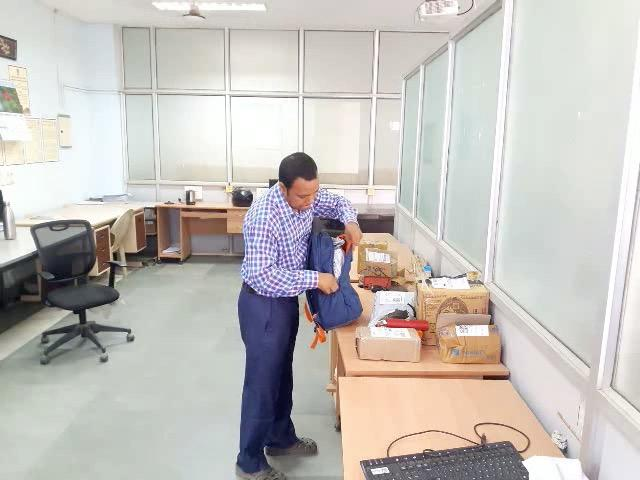shoplifting: (213, 209, 446, 330)
